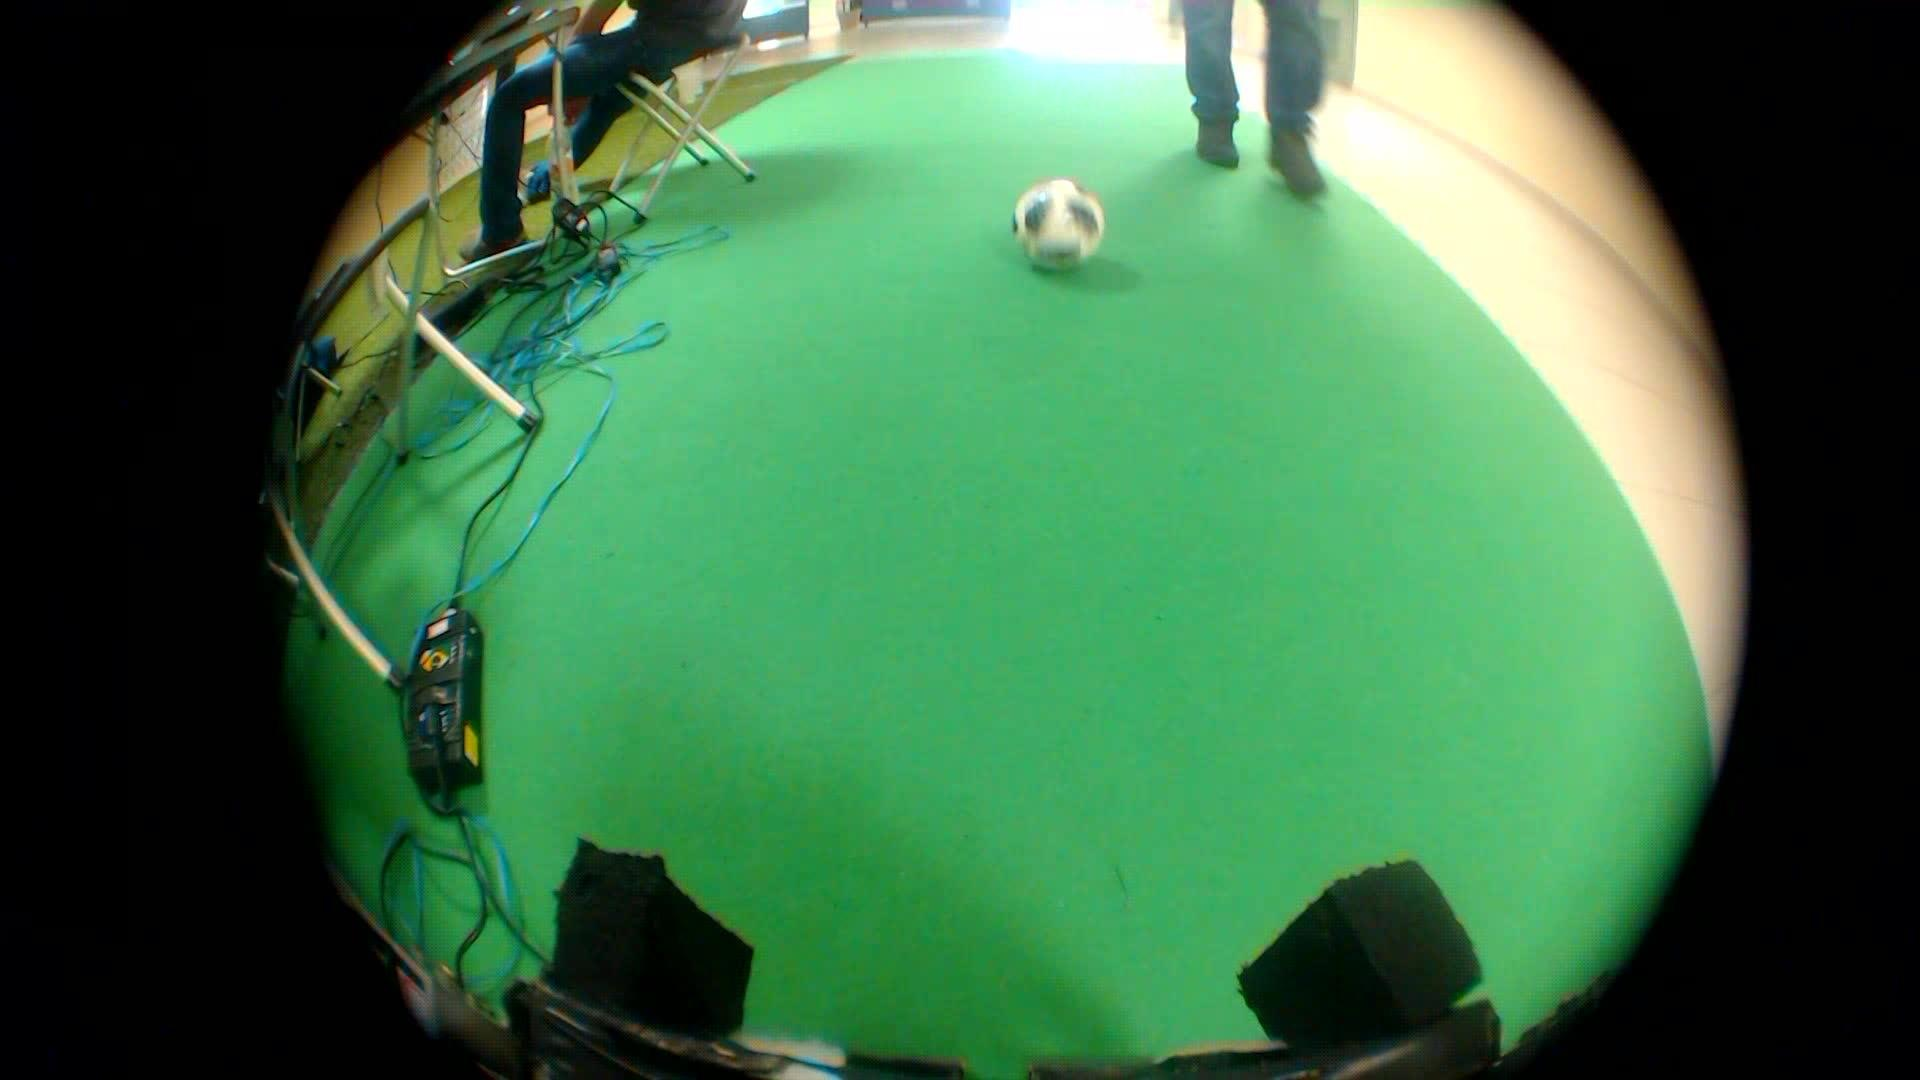ball: (1002, 166, 1118, 280)
